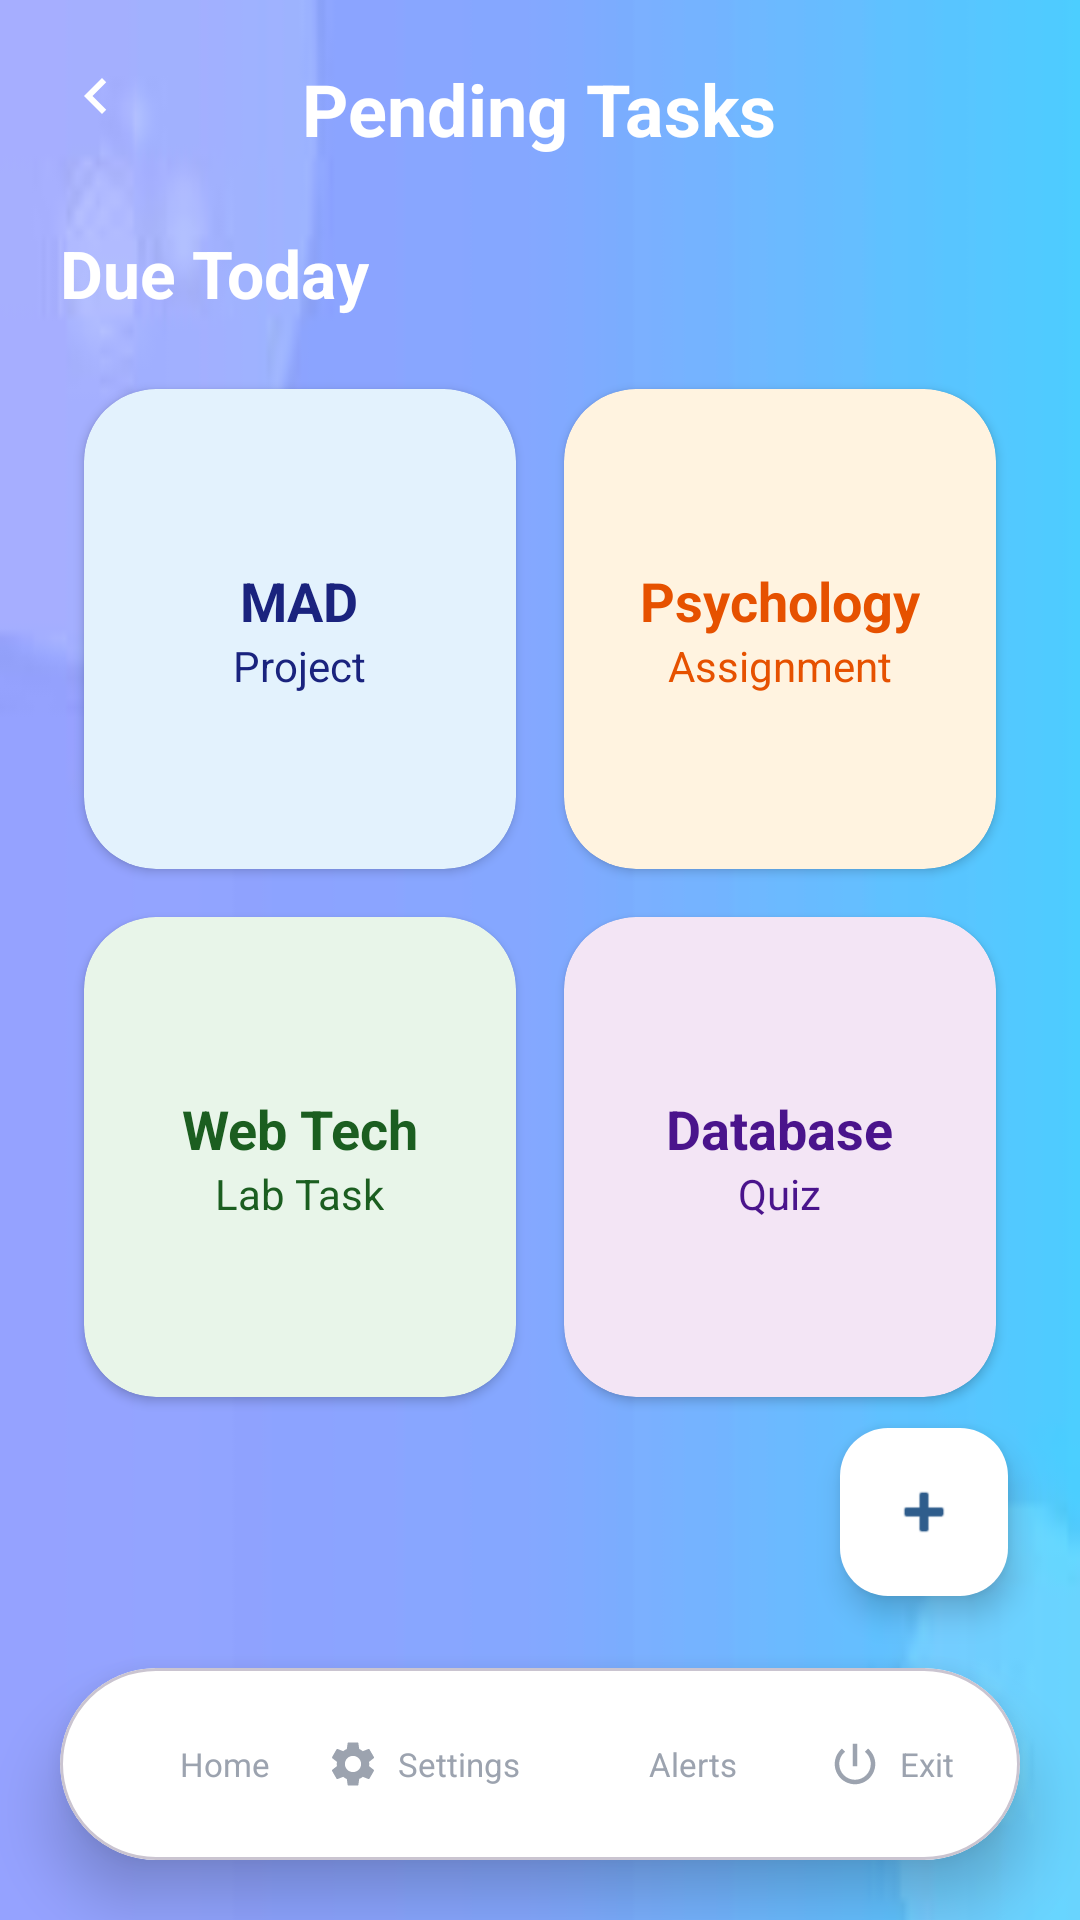

Where icons sit on this 1080×1920 app screen, as (x1, y1, x2, y2):
add: (840, 1428, 1008, 1596)
back: (84, 78, 106, 114)
